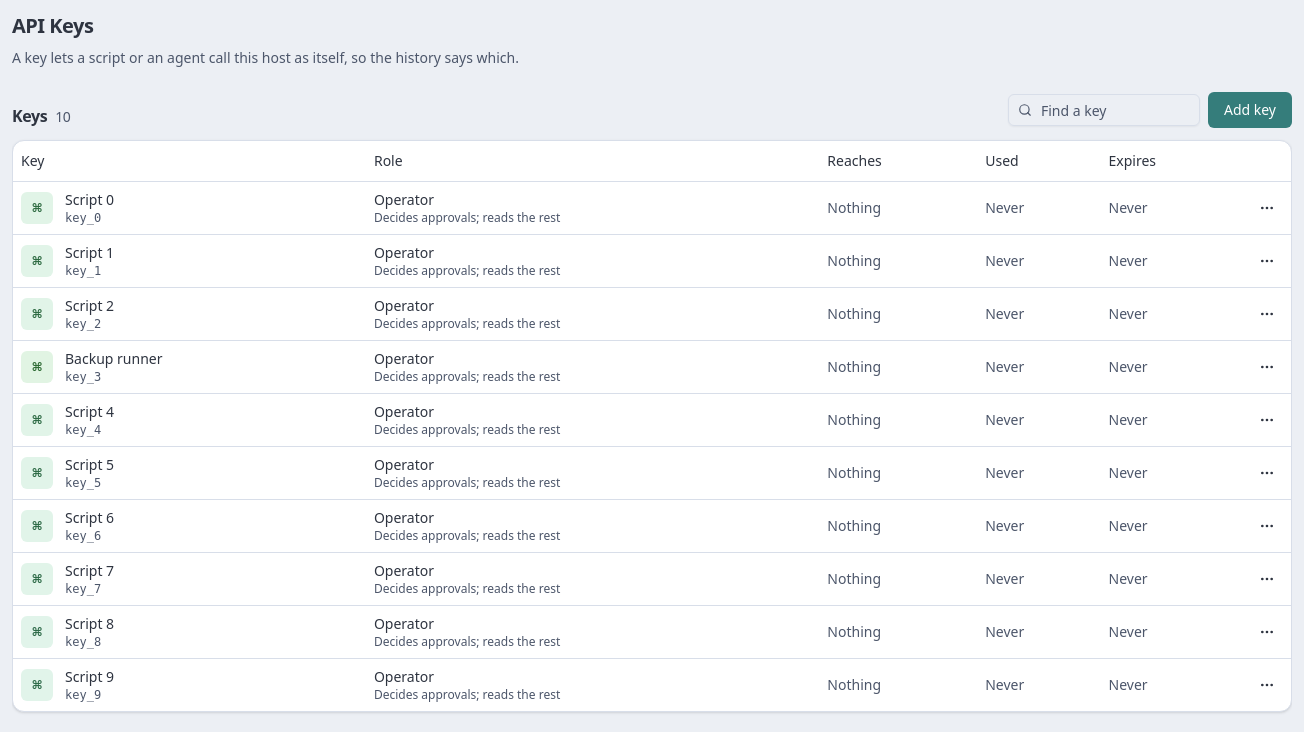
Test: the keys page › narrows a long list by name, id or group
Expected: the text "Backup runner" is shown, x1=65 y1=348 x2=162 y2=368
Type "backup" into the field with placeholder "Find a key".
click(1104, 110); type("backup")  # box x1=1008 y1=94 x2=1200 y2=126
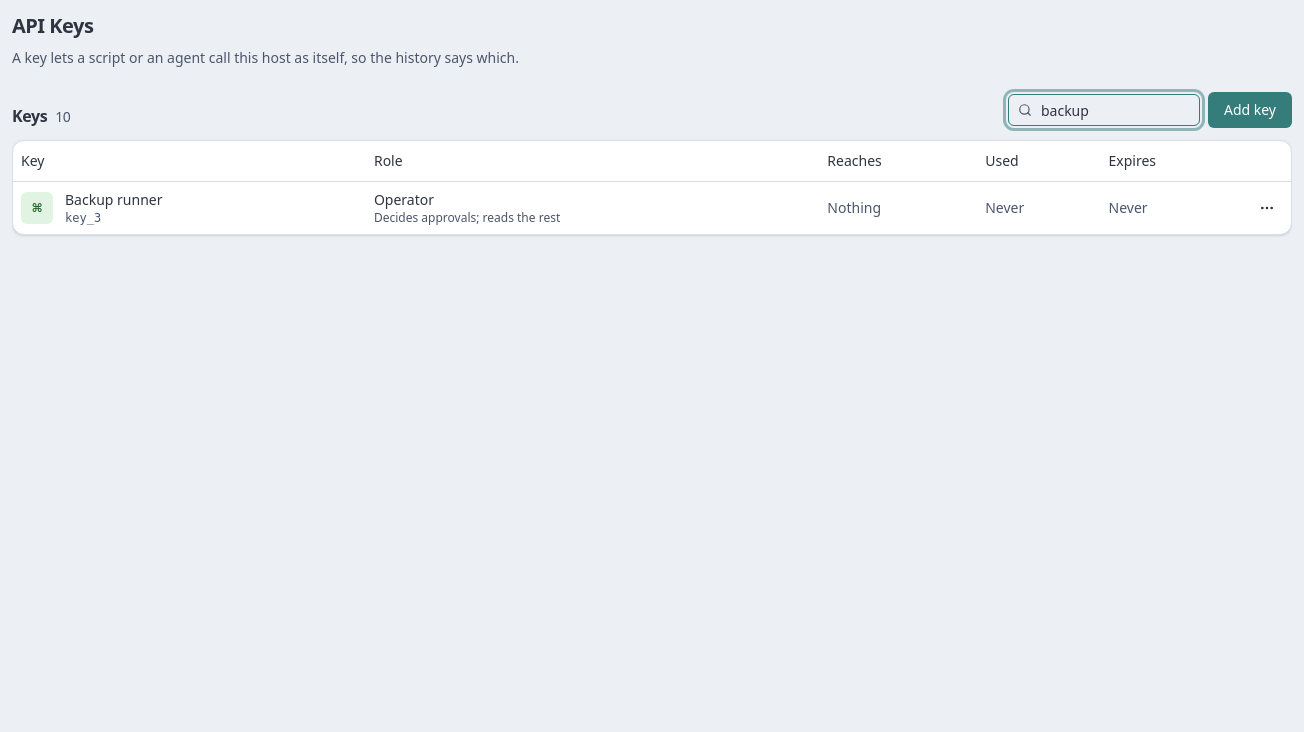
Expected: the text "Backup runner" is shown, x1=65 y1=190 x2=162 y2=210
Result: the text "Script 1" is gone
